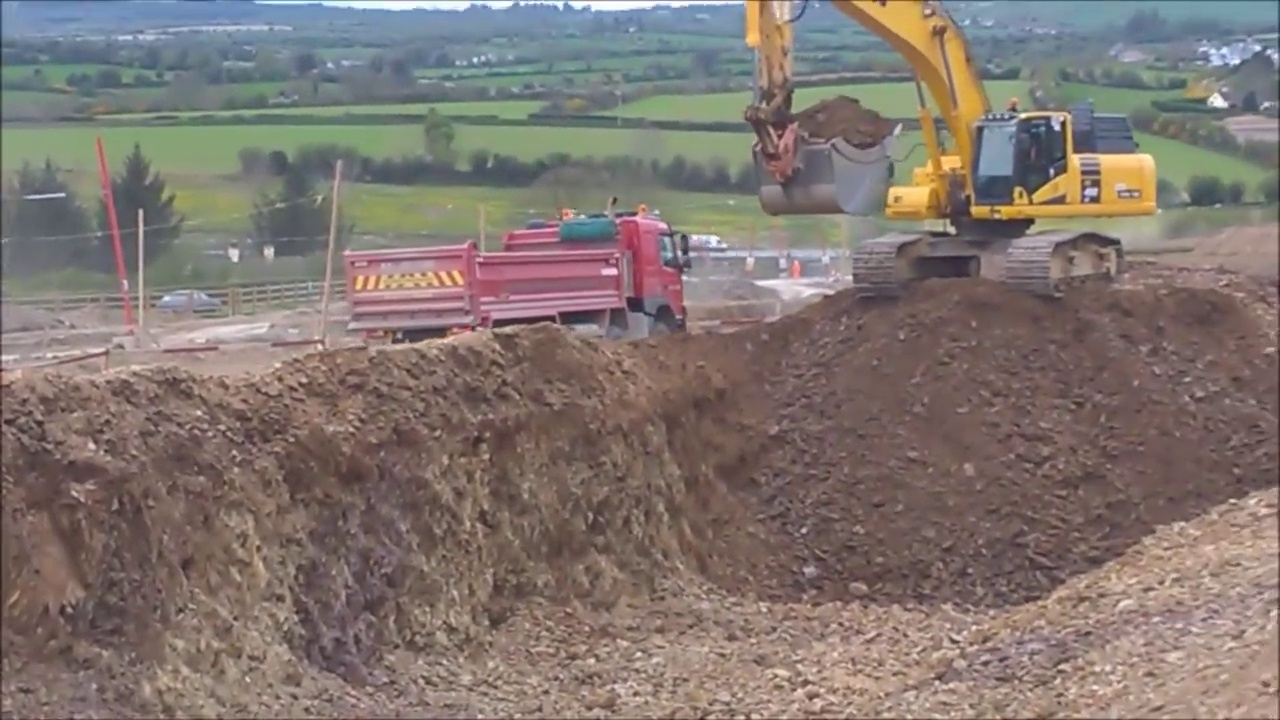excavator: (741, 2, 1160, 294)
truck: (342, 208, 690, 357)
